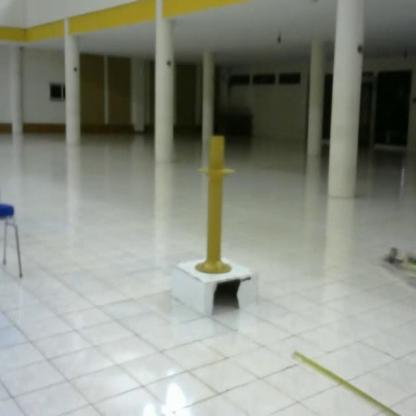pole: (195, 137, 239, 280)
